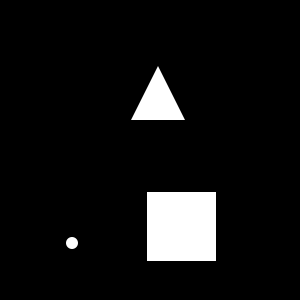circle: (147, 192, 216, 261)
rectangle: (66, 237, 78, 249)
triangle: (131, 66, 185, 120)
